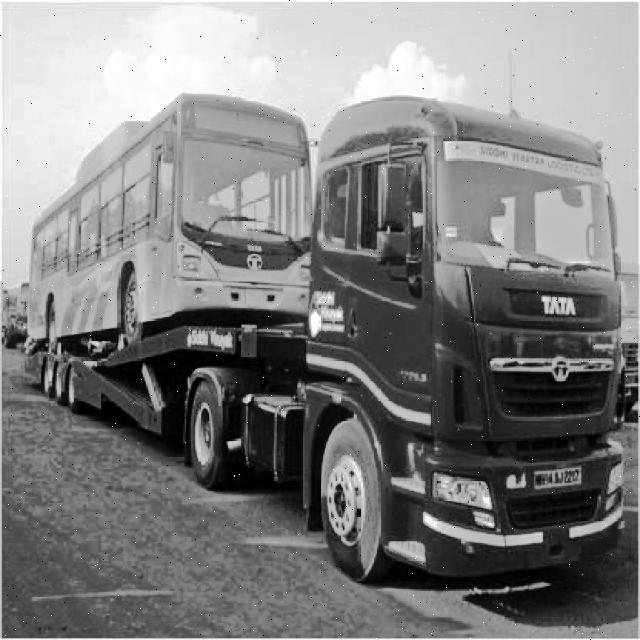HCV: (312, 117, 620, 605)
